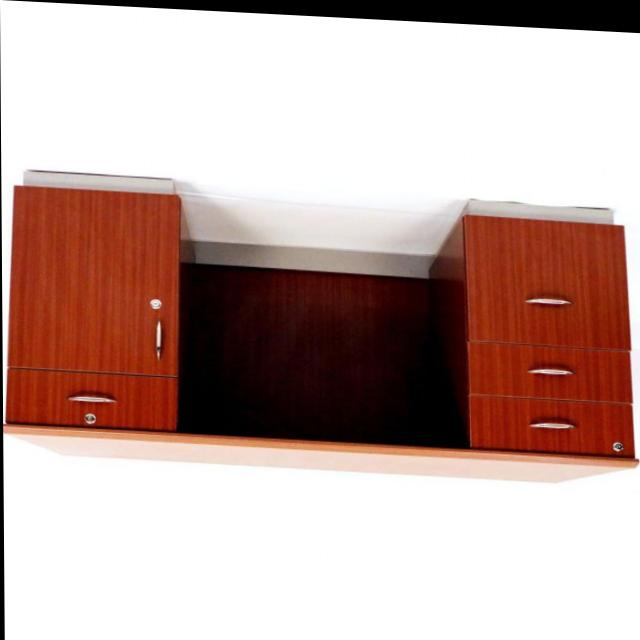Table: (1, 106, 640, 499)
